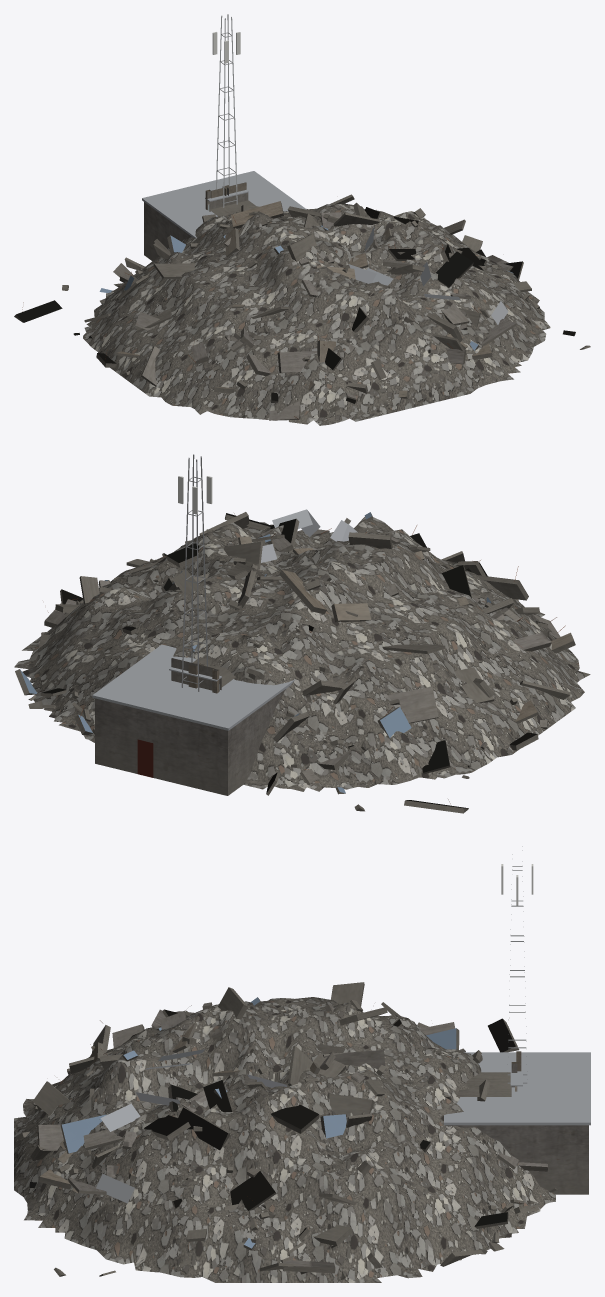
The model's file is bld_of.glb.
3 renders of one model, top to bottom at view 1: azimuth 30°, elevation 25°; view 2: azimuth 150°, elevation 25°; view 3: azimuth 270°, elevation 25°, orthographic. The views are drawn at different scales.
Visible parts, largest first — view 1: rubble_xl, core_top, mast; view 2: rubble_xl, core_top, mast, rubble_l, bay_A_entry_s2a; view 3: rubble_xl, core_top, bay_A_entry_s2a, rubble_l, mast.
Part boxes in pixels (left/top/right/bottom): rubble_xl: left=14, top=194, right=590, bottom=425; core_top: left=142, top=171, right=306, bottom=260; mast: left=212, top=14, right=240, bottom=207; rubble_xl: left=14, top=509, right=590, bottom=813; core_top: left=92, top=644, right=294, bottom=795; mast: left=178, top=454, right=212, bottom=691; rubble_l: left=38, top=634, right=420, bottom=794; bay_A_entry_s2a: left=171, top=657, right=235, bottom=687; rubble_xl: left=14, top=982, right=555, bottom=1282; core_top: left=444, top=1052, right=590, bottom=1194; bay_A_entry_s2a: left=456, top=1072, right=511, bottom=1096; rubble_l: left=367, top=1187, right=557, bottom=1268; mast: left=501, top=846, right=533, bottom=1087.
Size of what is drawn, in the model's own units: 32.28 by 18.16 by 29.8.
1 material, 1 textured.
